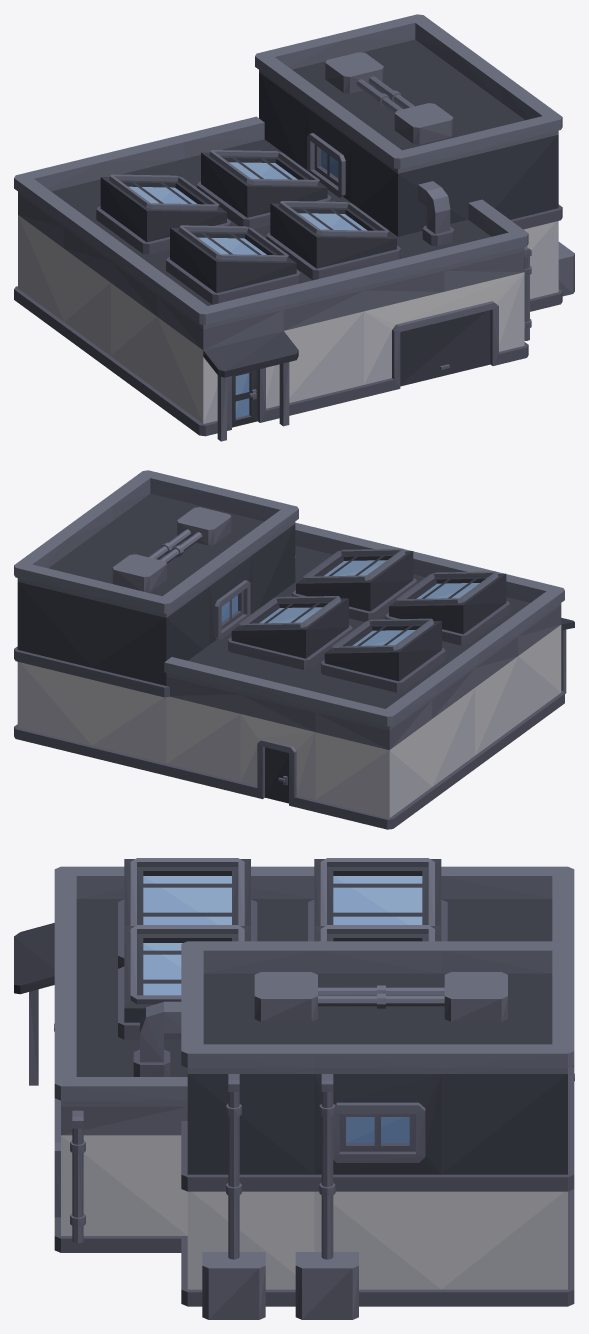
The model's file is warehouse.glb.
The picture shows the model from 3 angles, top to bottom: view 1: azimuth 30°, elevation 25°; view 2: azimuth 150°, elevation 25°; view 3: azimuth 270°, elevation 25°; orthographic projection. The views are drawn at different scales.
Visible parts, largest first — view 1: body; view 2: body; view 3: body.
Boxes of the visible parts, x1,y1,x2,y2 form: body: [14, 14, 574, 441]; body: [14, 470, 574, 829]; body: [14, 858, 574, 1319].
Bounding box in the file's own units: 26 × 10.69 × 21.5.
